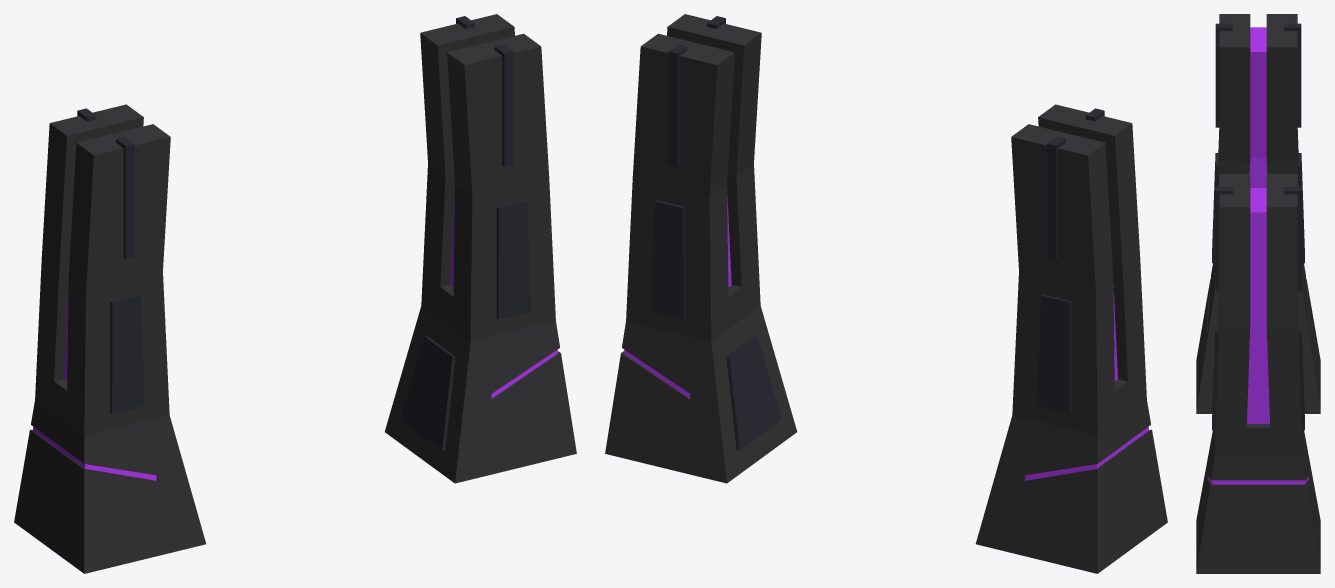
The model's file is NC_Sci-fi02.fbx.
3 renders of one model, left to right at view 1: azimuth 30°, elevation 25°; view 2: azimuth 150°, elevation 25°; view 3: azimuth 270°, elevation 25°, orthographic. The views are drawn at different scales.
Parts seen in each view (by area): view 1: NC_Sci_fi02; view 2: NC_Sci_fi02; view 3: NC_Sci_fi02.
Boxes of the visible parts, box(x1,y1,x2,y2) form: NC_Sci_fi02: box(14, 14, 576, 573); NC_Sci_fi02: box(605, 14, 1167, 573); NC_Sci_fi02: box(1196, 14, 1320, 573).
Size of the model in its own units: 435 by 344 by 108.
1 material, 1 textured.
